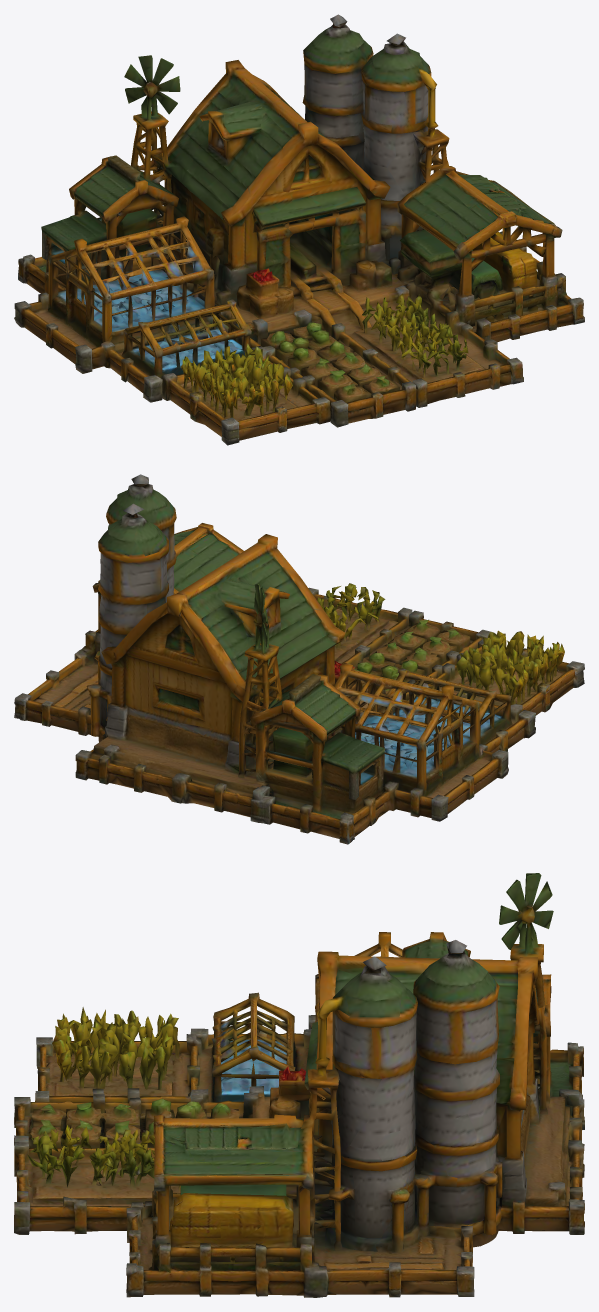
File: farm_stage3.glb
3 views of the same model, one above another, from view 1: azimuth 30°, elevation 25°; view 2: azimuth 150°, elevation 25°; view 3: azimuth 270°, elevation 25° (orthographic). The views are drawn at different scales.
Parts seen in each view (by area): view 1: tripo_node_9cf2975b-18c3-4263-a051-c78c5c6f8225; view 2: tripo_node_9cf2975b-18c3-4263-a051-c78c5c6f8225; view 3: tripo_node_9cf2975b-18c3-4263-a051-c78c5c6f8225.
Part boxes in pixels (x1=…): tripo_node_9cf2975b-18c3-4263-a051-c78c5c6f8225: x1=14, y1=14, x2=584, y2=445; tripo_node_9cf2975b-18c3-4263-a051-c78c5c6f8225: x1=14, y1=474, x2=584, y2=844; tripo_node_9cf2975b-18c3-4263-a051-c78c5c6f8225: x1=14, y1=873, x2=584, y2=1297.
Bounding box in the file's own units: 1 × 0.5319 × 0.9397.
1 material, 1 textured.
